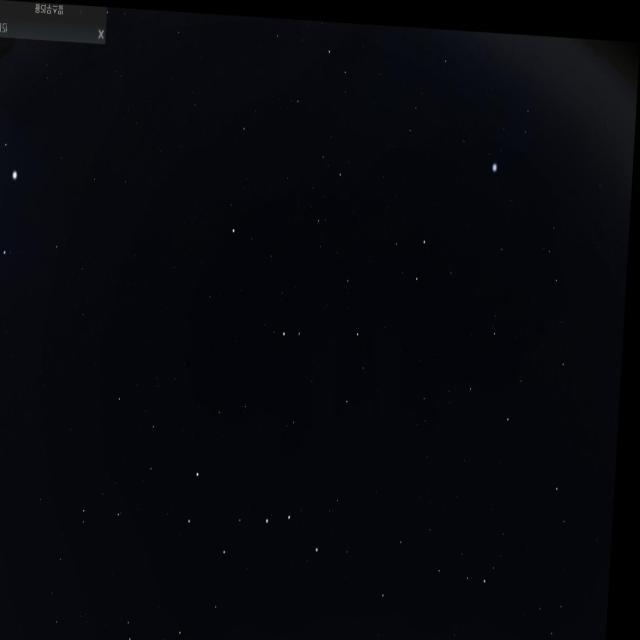lyra: (484, 87, 544, 185)
ursa_major: (187, 454, 334, 576)
